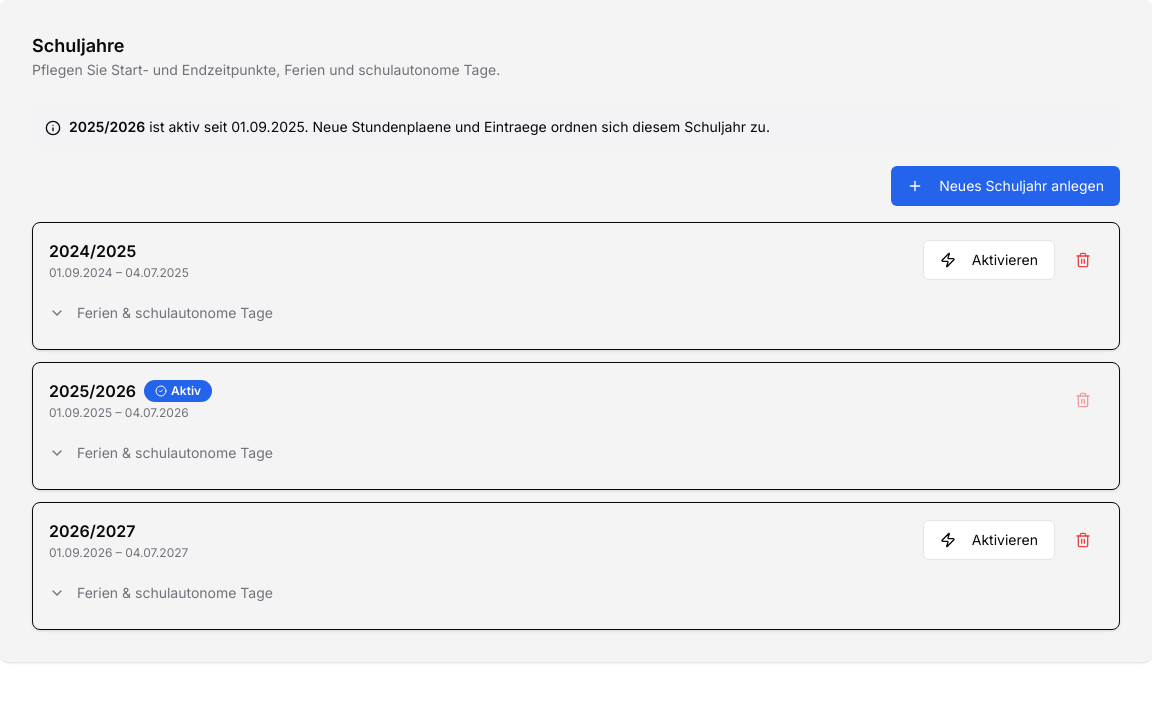
Test: SchoolYearsTab (Plan 10-05 Task 1) › expanding the Collapsible reveals Ferien + Schulautonome Tage sub-sections
Click the button "Ferien & schulautonome Tage" below "01.09.2024 – 04.07.2025" at point(161, 313), box [49,293,273,333]
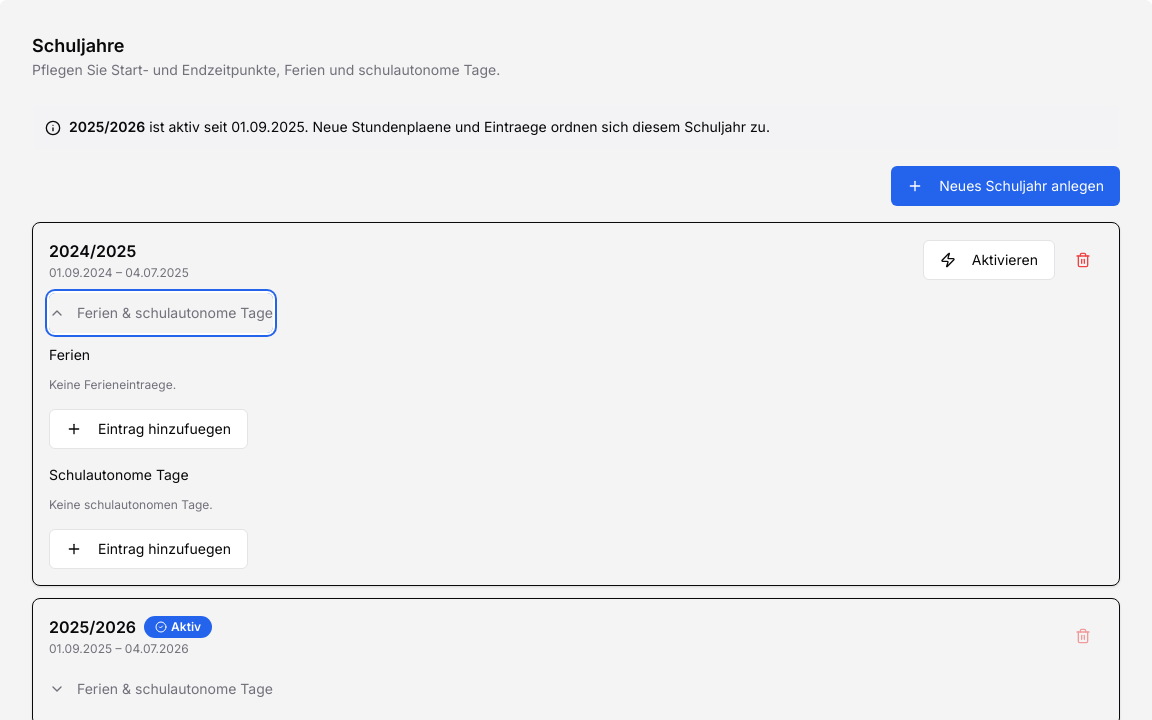
Expected: the heading "Ferien" is shown, [49,346,90,363]
Expected: the heading "Schulautonome Tage" is shown, [49,466,189,483]
